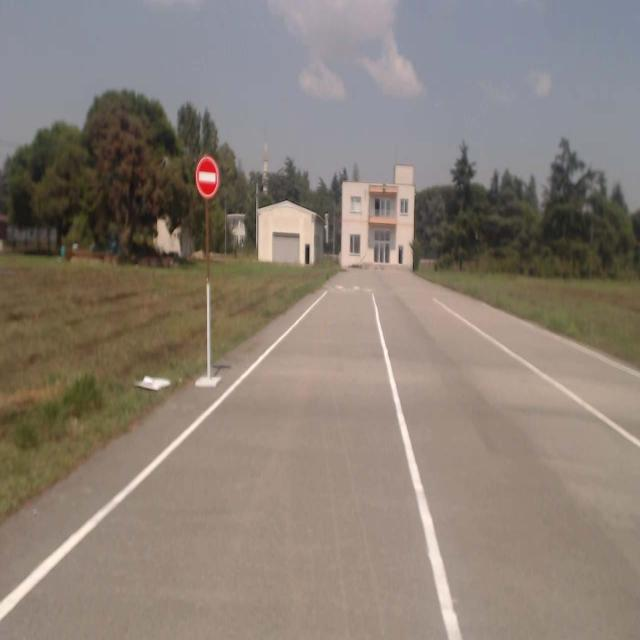girisyok: (196, 156, 218, 200)
